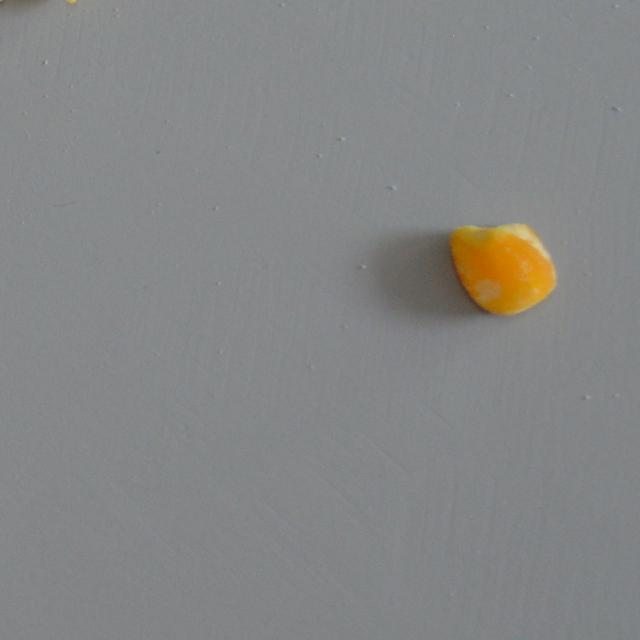pelicula: (448, 224, 558, 318)
